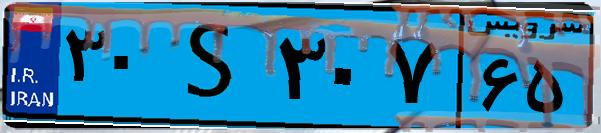0: (330, 28, 385, 110), (110, 28, 158, 98)
3: (270, 28, 330, 110), (57, 26, 110, 100)
5: (525, 38, 570, 115)
6: (475, 38, 525, 113)
7: (385, 28, 445, 110)
S: (158, 12, 270, 120)
